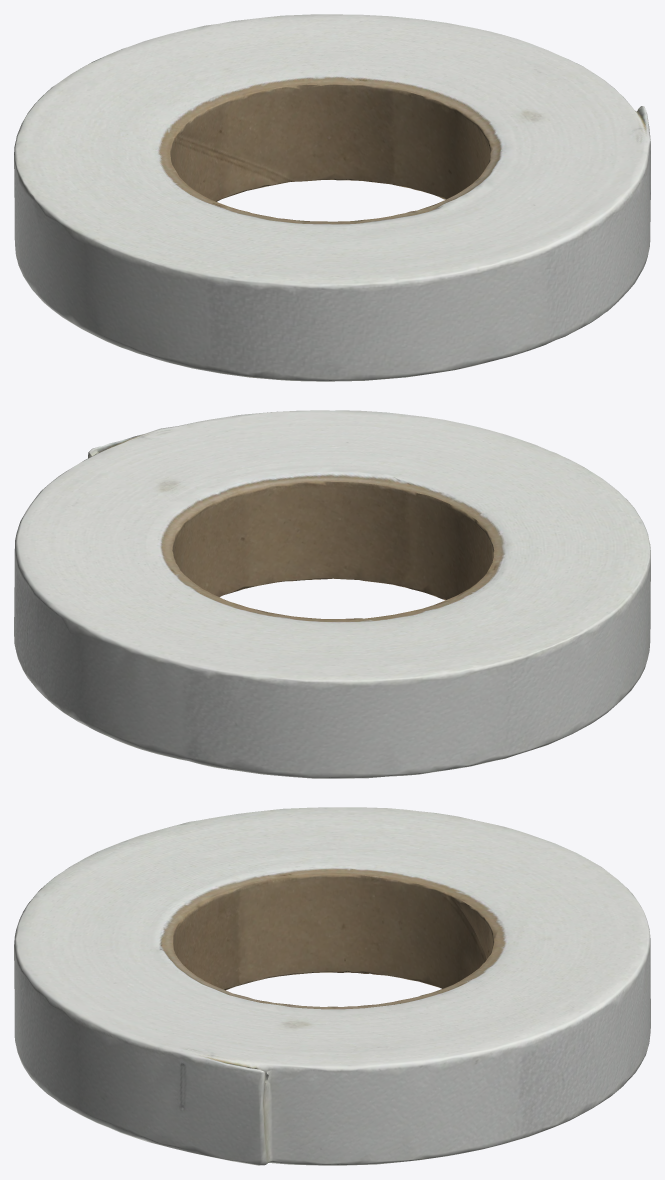
Rendered from 3M_Antislip_Surfacing_Light_Duty_White.glb.
The picture shows the model from 3 angles, top to bottom: view 1: azimuth 30°, elevation 25°; view 2: azimuth 150°, elevation 25°; view 3: azimuth 270°, elevation 25°; orthographic projection.
Parts seen in each view (by area): view 1: 3M_Antislip_Surfacing_Light_Duty_White; view 2: 3M_Antislip_Surfacing_Light_Duty_White; view 3: 3M_Antislip_Surfacing_Light_Duty_White.
Boxes of the visible parts, bbox=[...] form: 3M_Antislip_Surfacing_Light_Duty_White: bbox=[14, 14, 650, 381]; 3M_Antislip_Surfacing_Light_Duty_White: bbox=[14, 410, 650, 778]; 3M_Antislip_Surfacing_Light_Duty_White: bbox=[14, 807, 650, 1165].
Size of the model in its own units: 0.1547 by 0.0286 by 0.1535.
1 material, 1 textured.
